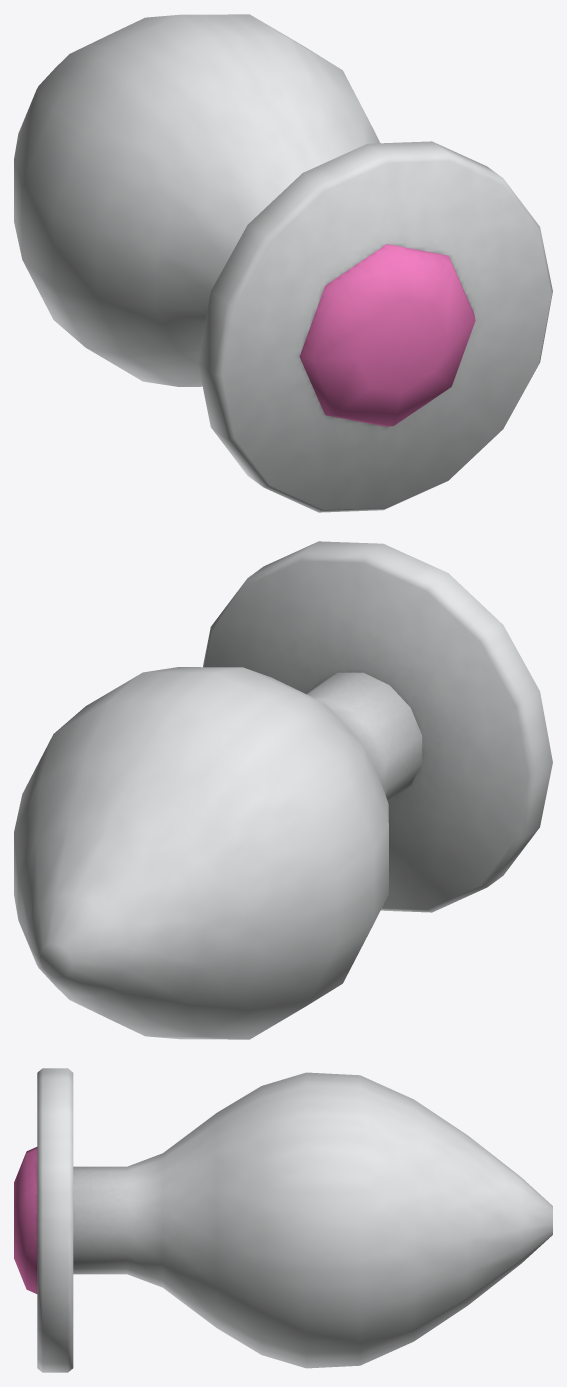
File: butt_plug.glb
3 renders of one model, top to bottom at view 1: azimuth 30°, elevation 25°; view 2: azimuth 150°, elevation 25°; view 3: azimuth 270°, elevation 25°, orthographic. The views are drawn at different scales.
Visible parts, largest first — view 1: x3_butt_plug; view 2: x3_butt_plug; view 3: x3_butt_plug.
Boxes of the visible parts, bbox=[...] form: x3_butt_plug: bbox=[14, 14, 552, 512]; x3_butt_plug: bbox=[14, 541, 552, 1039]; x3_butt_plug: bbox=[14, 1068, 552, 1372].
Bounding box in the file's own units: 0.0221 × 0.0221 × 0.0391.
1 material, 1 textured.
